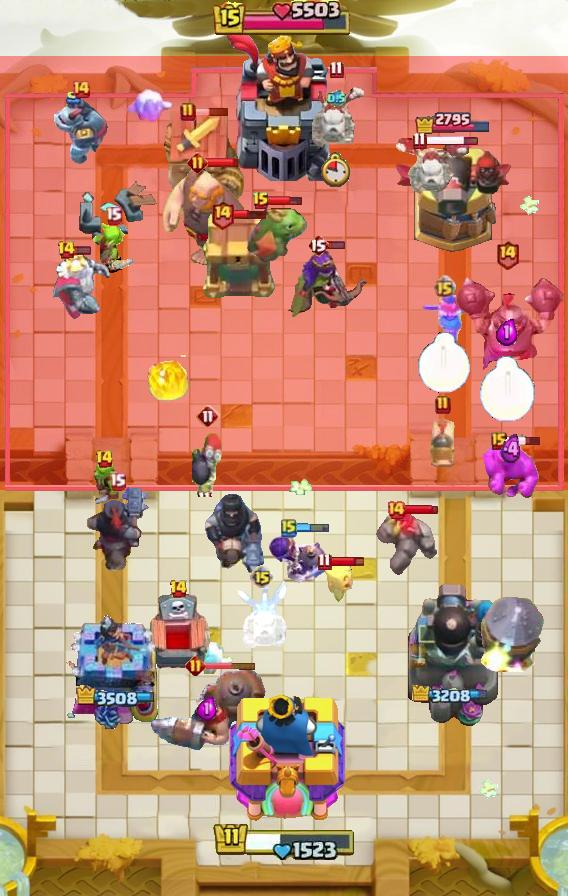balloon: (160, 167, 260, 271)
barbarian-hut: (288, 245, 372, 323)
bat: (189, 640, 235, 674)
bat-evolution: (323, 558, 355, 602)
bomb: (202, 212, 280, 300)
clock: (212, 818, 356, 860), (213, 0, 355, 38)
electro-spirit: (500, 434, 523, 465), (496, 318, 518, 346), (197, 696, 217, 721), (326, 90, 345, 106)
electro-wizard: (241, 198, 307, 266)
elixir: (479, 357, 536, 424), (417, 332, 471, 394), (321, 153, 351, 187)
elixir-golem-mid: (143, 593, 213, 679)
elixir-golem-small: (53, 92, 109, 164)
emote: (425, 133, 480, 147), (203, 662, 257, 671), (267, 193, 303, 206), (330, 555, 366, 568), (505, 435, 542, 447), (403, 504, 439, 516), (295, 522, 330, 534), (232, 208, 268, 219), (205, 157, 239, 168), (194, 107, 229, 117), (72, 245, 91, 256), (326, 240, 345, 250)
executioner: (427, 417, 459, 471)
goblin-ball: (267, 532, 329, 584)
hog-rider: (420, 293, 468, 347)
ice-golem: (192, 431, 224, 497)
inferno-dragon: (85, 484, 150, 573), (204, 492, 268, 575)
king-tower: (223, 31, 345, 181), (223, 689, 345, 826)
mini-pekka: (393, 136, 469, 198), (306, 81, 366, 149), (235, 579, 289, 651)
mirror: (125, 88, 175, 126)
mortar-evolution: (50, 249, 114, 321)
queen-tower: (65, 614, 162, 730)
royal-guardian: (447, 274, 567, 376)
selected: (414, 110, 492, 134), (74, 685, 154, 708), (412, 685, 494, 707)
sparky: (158, 110, 244, 208)
text: (209, 198, 234, 229), (495, 238, 520, 269), (196, 404, 220, 428), (250, 565, 274, 589), (432, 274, 455, 297), (307, 233, 329, 257), (188, 152, 209, 173), (185, 656, 206, 677), (71, 79, 91, 99), (386, 500, 406, 520), (56, 240, 75, 260), (95, 449, 114, 469), (168, 579, 187, 599), (252, 191, 270, 211), (105, 206, 122, 225), (109, 472, 126, 491), (180, 102, 196, 122), (435, 395, 451, 415), (281, 518, 297, 538), (491, 432, 507, 450), (328, 61, 343, 79), (413, 131, 428, 149), (317, 553, 332, 571)
tornado: (483, 440, 539, 500)
tower-bar: (402, 579, 504, 731), (392, 138, 514, 256)
valkyrie: (143, 348, 195, 404)
valkyrie-evolution: (373, 511, 441, 581)
wizard: (147, 664, 267, 754)
x-bow: (480, 594, 543, 672)
zap: (91, 221, 135, 276), (85, 459, 123, 505)
